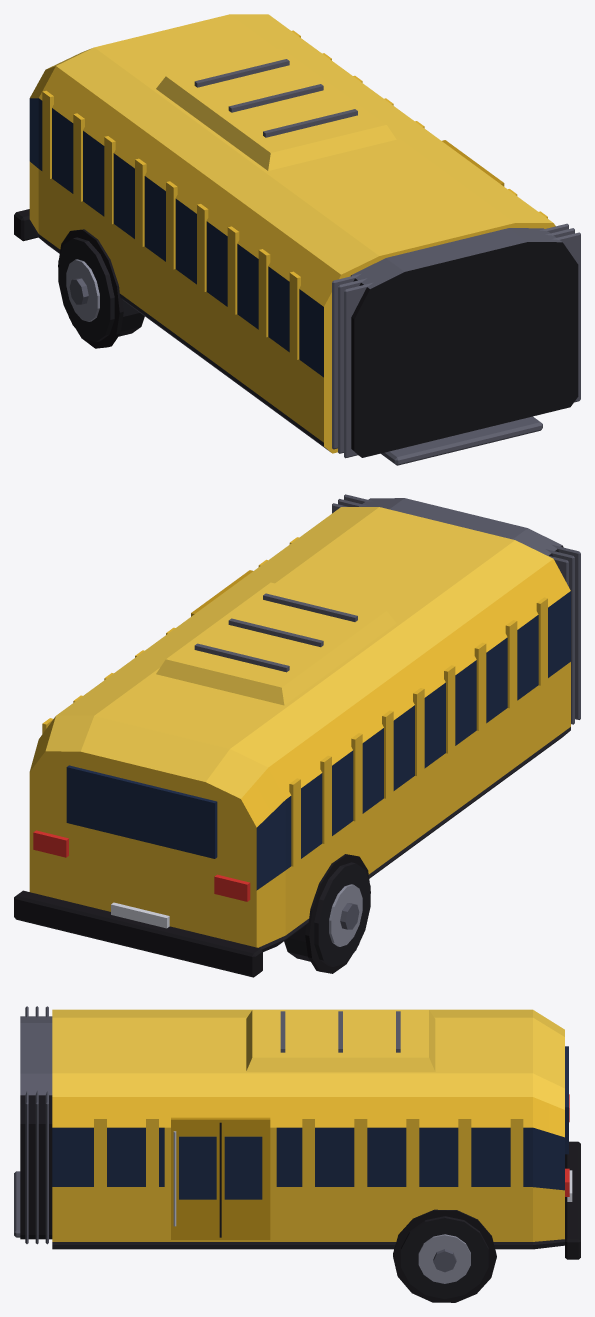
The model's file is bus-articulated-rear.glb.
The picture shows the model from 3 angles, top to bottom: view 1: azimuth 30°, elevation 25°; view 2: azimuth 150°, elevation 25°; view 3: azimuth 270°, elevation 25°; orthographic projection. The views are drawn at different scales.
Parts seen in each view (by area): view 1: BusArticulatedRear; view 2: BusArticulatedRear; view 3: BusArticulatedRear.
Part boxes in pixels (box(x1,y1,x2,y2)): BusArticulatedRear: box(14, 14, 580, 465); BusArticulatedRear: box(14, 494, 580, 977); BusArticulatedRear: box(14, 1006, 580, 1302).
Size of the model in its own units: 1.68 by 1.52 by 3.54.
Materials: 1 (1 with a texture image).
